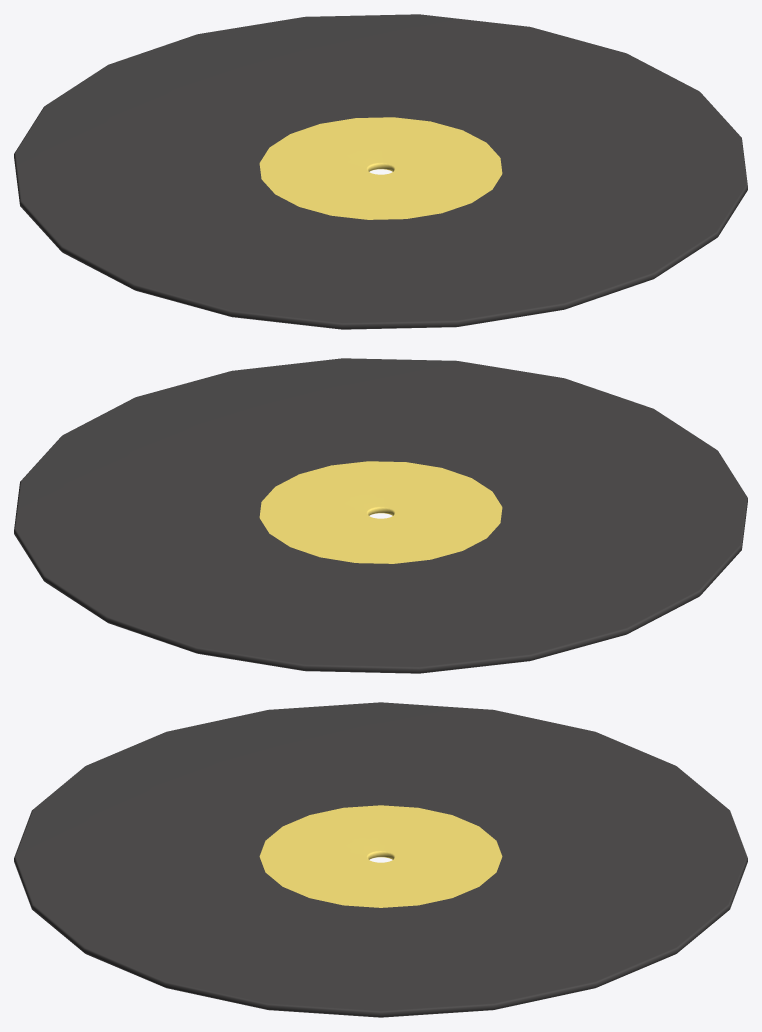
File: Vinyl_4.glb
3 views of the same model, one above another, from view 1: azimuth 30°, elevation 25°; view 2: azimuth 150°, elevation 25°; view 3: azimuth 270°, elevation 25° (orthographic).
Parts seen in each view (by area): view 1: Vinyl_4; view 2: Vinyl_4; view 3: Vinyl_4.
Boxes of the visible parts, x1,y1,x2,y2 form: Vinyl_4: (14, 14, 747, 329); Vinyl_4: (14, 358, 747, 673); Vinyl_4: (14, 702, 747, 1017).
Bounding box in the file's own units: 0.2573 × 0.00261 × 0.2573.
1 material, 1 textured.
